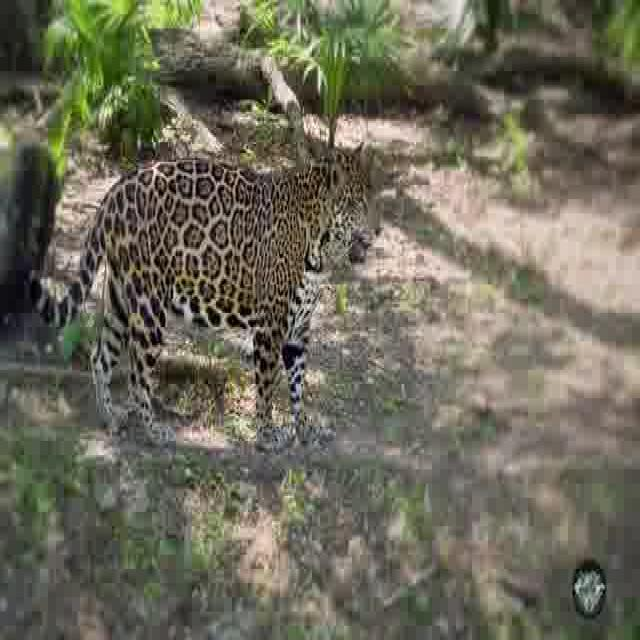Jaguar: (26, 128, 382, 455)
